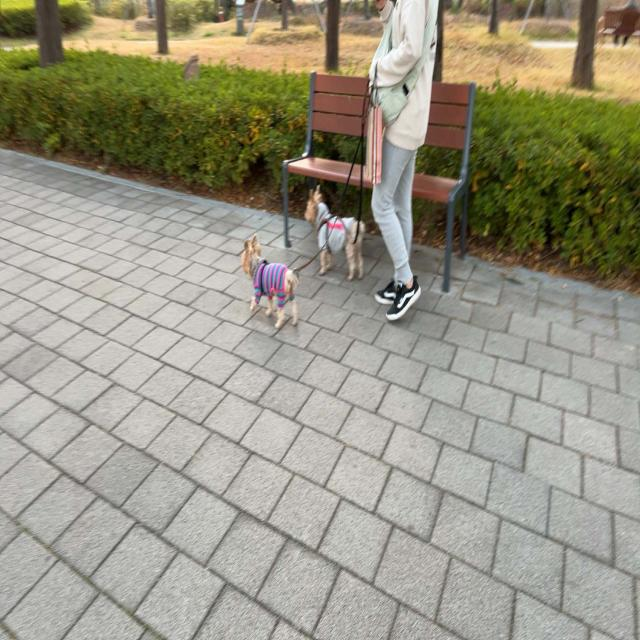Leashed_Dog: (242, 62, 389, 328), (303, 62, 389, 282)
